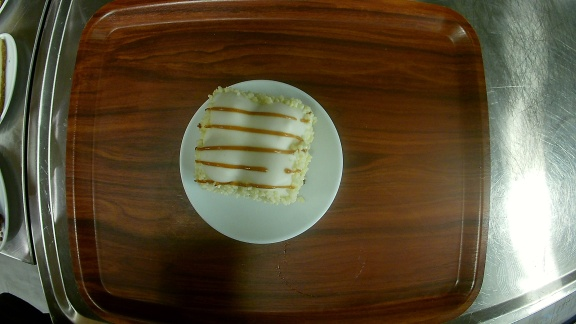beyazpasta: (182, 79, 343, 243)
